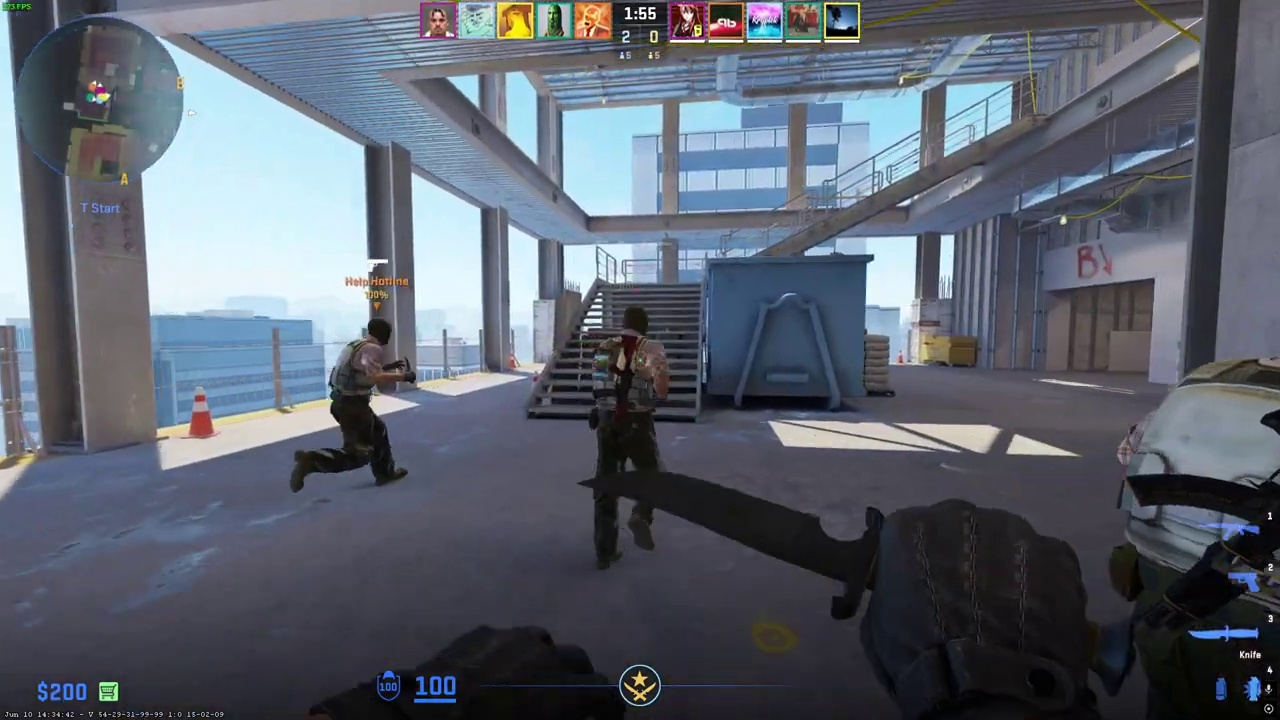Terrorist: (589, 305, 669, 571), (305, 318, 407, 487)
